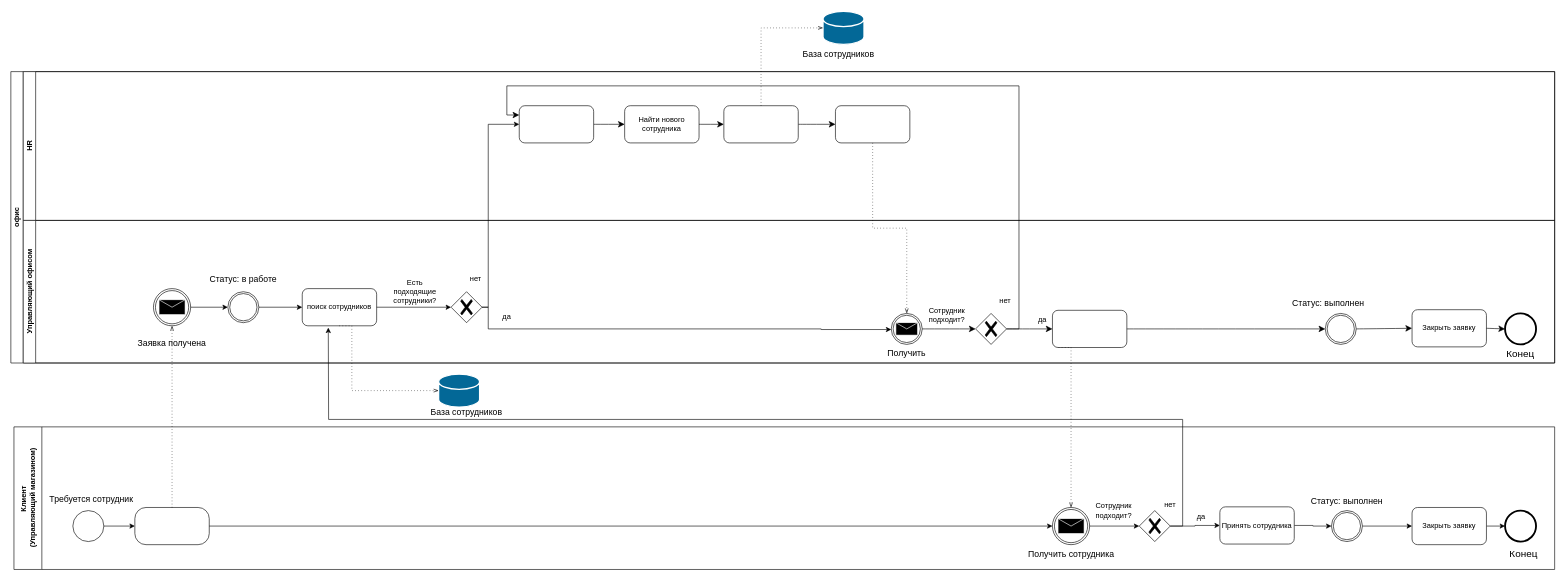
This 1566x580 diagram has some shape labels left out. Each missing label, with the centre of its shape:
"Добавить в БД" goes at (x=760, y=124).
"Назначить сотрудников на заявку" goes at (x=1089, y=329).
"Начать подбор кандидатов" goes at (x=556, y=124).
"Отправить на согласование" goes at (x=872, y=124).
"Создать завявку" goes at (x=171, y=526).
